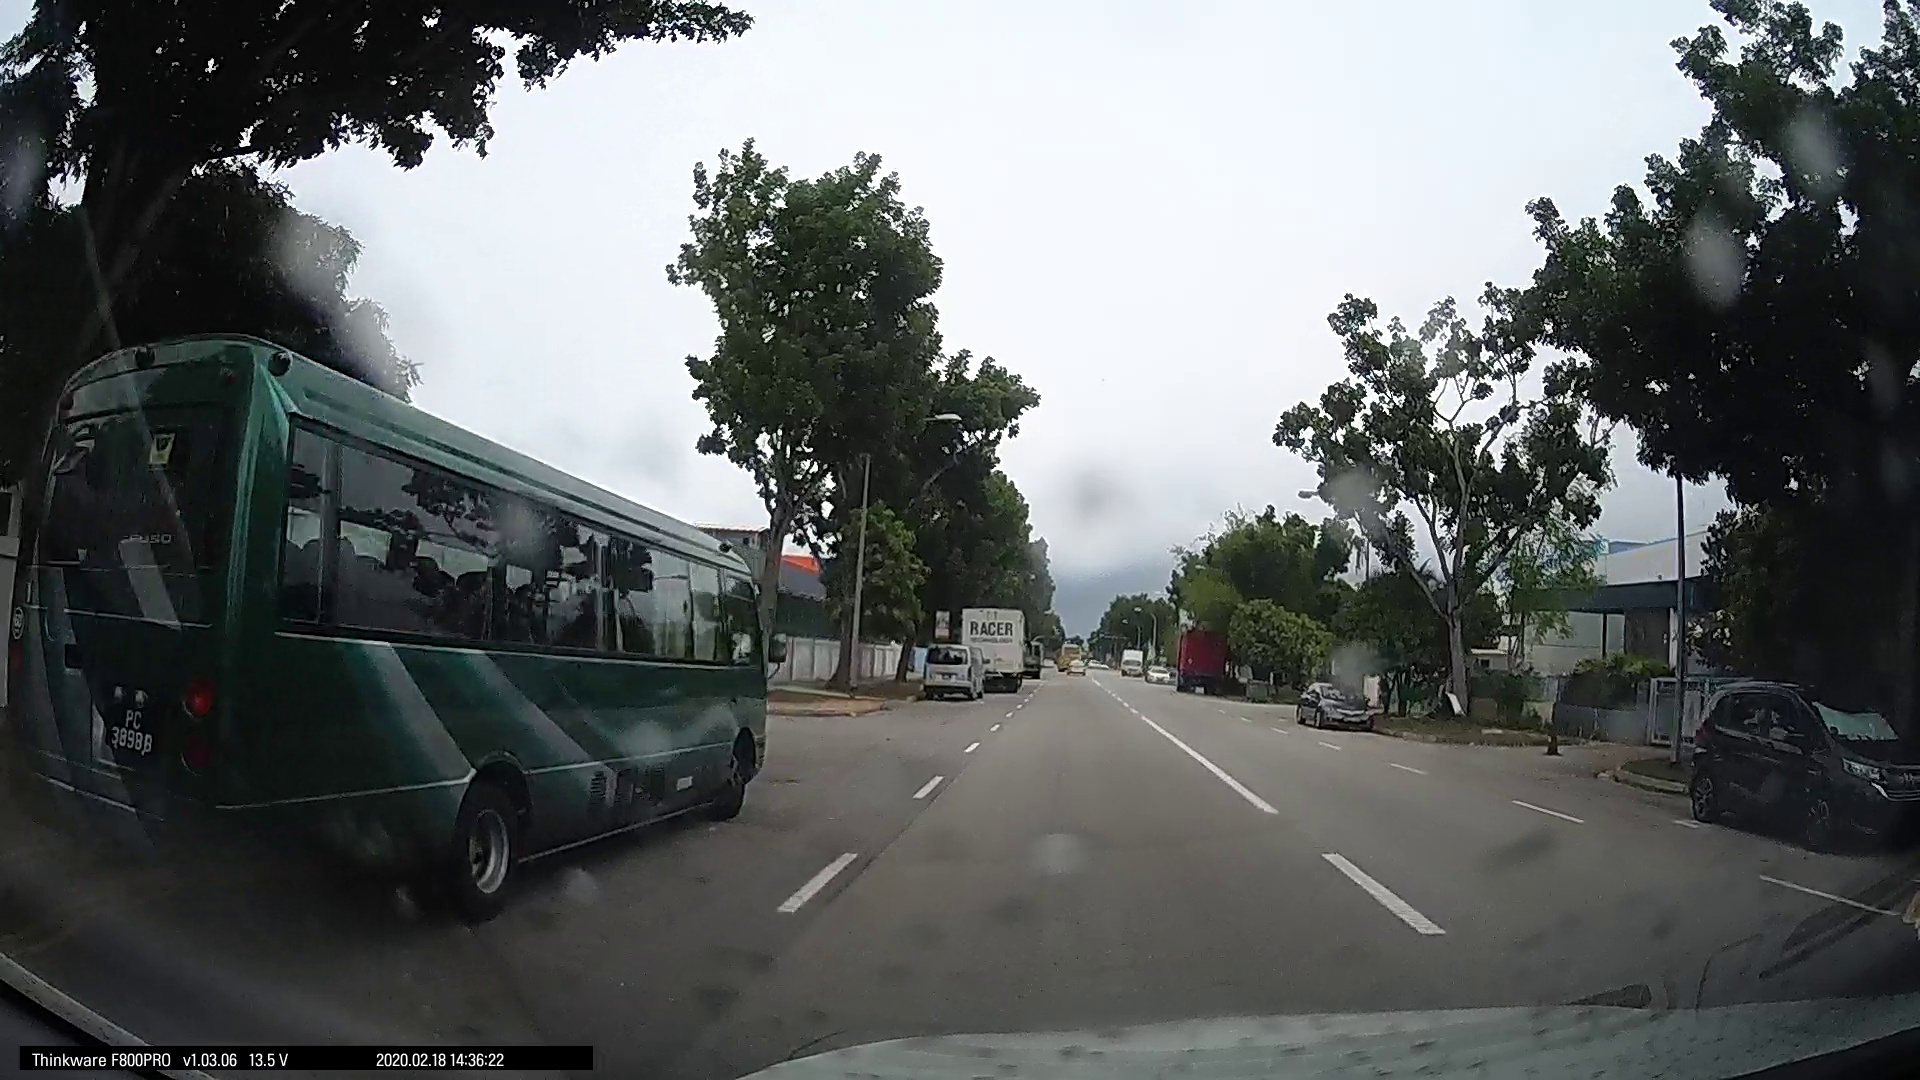Heavy Vehicle: (1197, 538, 1567, 857)
Light Vehicle: (1571, 650, 1792, 767), (251, 597, 440, 696), (1797, 684, 1913, 758), (1, 547, 88, 636)
